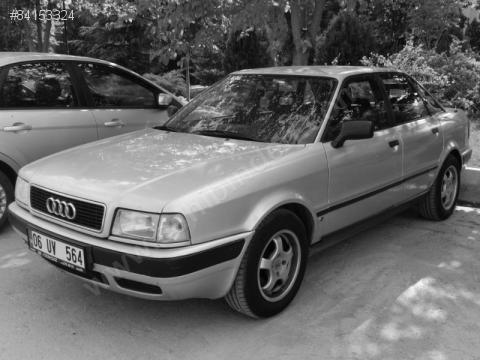car: (7, 66, 475, 321)
